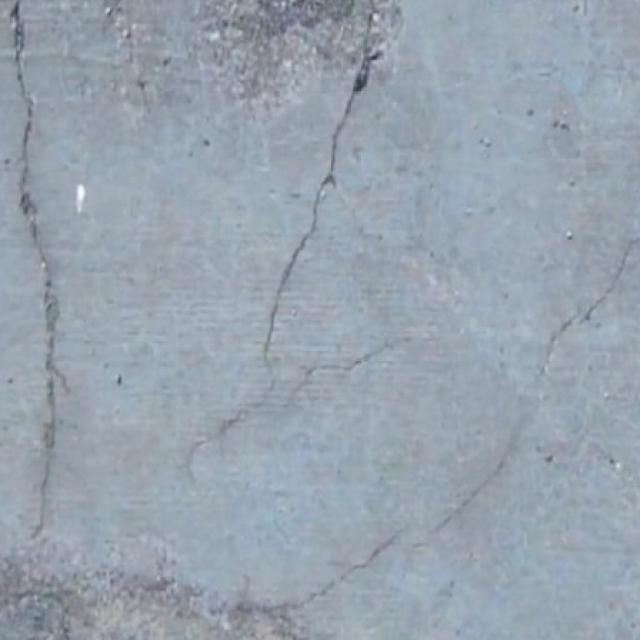Diagonal Crack: (182, 0, 386, 482), (394, 227, 640, 568)
Vertical Crack: (8, 0, 70, 556)
